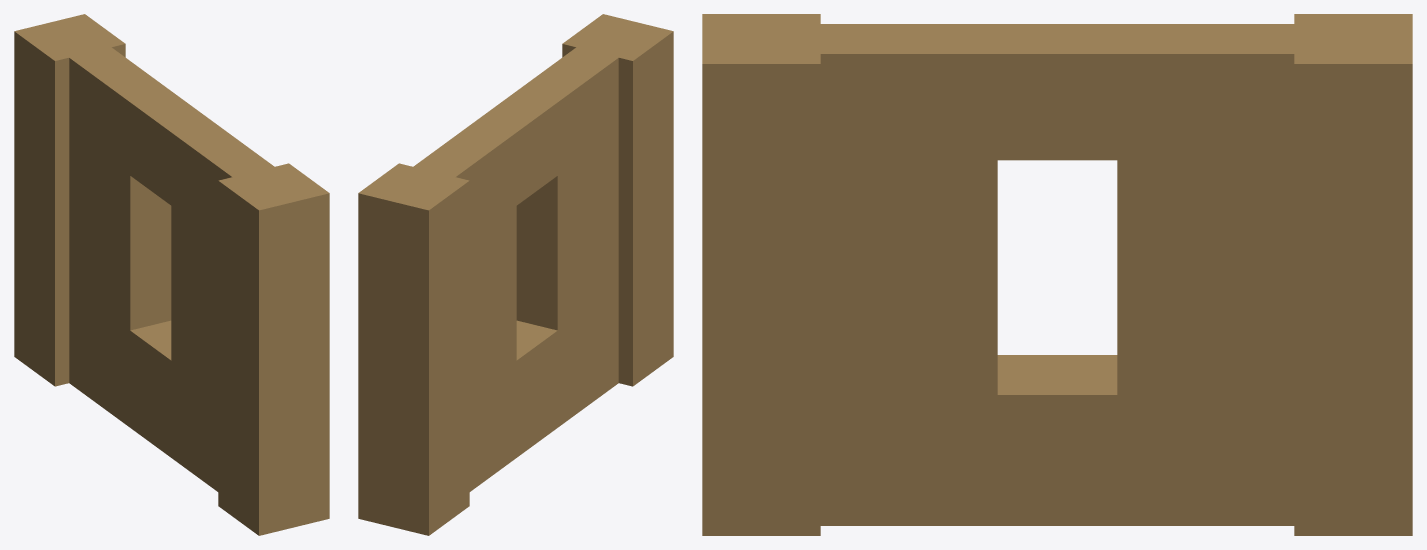
File: wood_window_square_sill_01.glb
The picture shows the model from 3 angles, left to right: view 1: azimuth 30°, elevation 25°; view 2: azimuth 150°, elevation 25°; view 3: azimuth 270°, elevation 25°; orthographic projection. The views are drawn at different scales.
Parts seen in each view (by area): view 1: Mesh1 Wood_Window_Square_Sill Model; view 2: Mesh1 Wood_Window_Square_Sill Model; view 3: Mesh1 Wood_Window_Square_Sill Model.
Part boxes in pixels (x1,y1,x2,y2): Mesh1 Wood_Window_Square_Sill Model: (14,14,329,535); Mesh1 Wood_Window_Square_Sill Model: (358,14,673,535); Mesh1 Wood_Window_Square_Sill Model: (702,14,1412,535).
Bounding box in the file's own units: 0.5 × 2.2 × 3.
